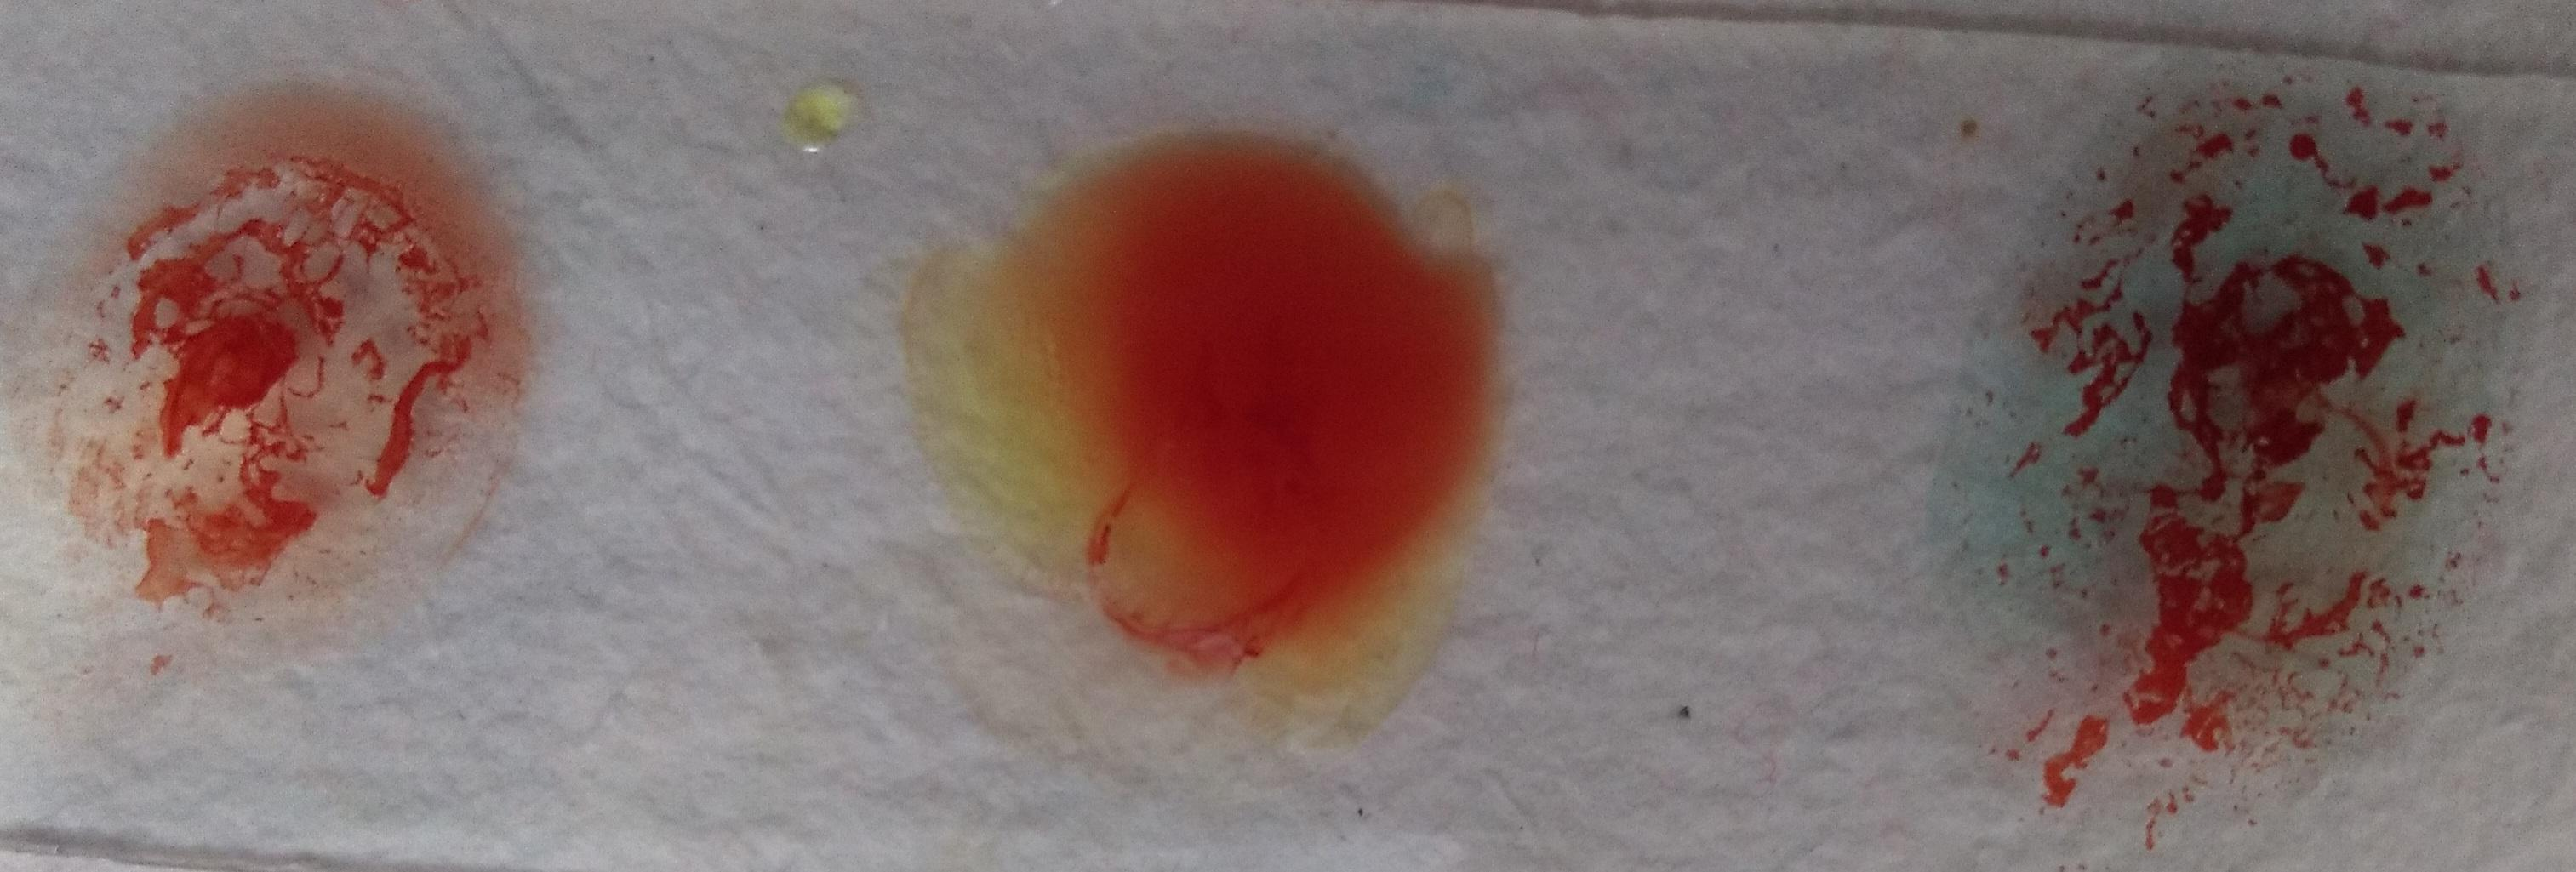A: (1955, 66, 2515, 824)
D: (30, 92, 539, 642)
